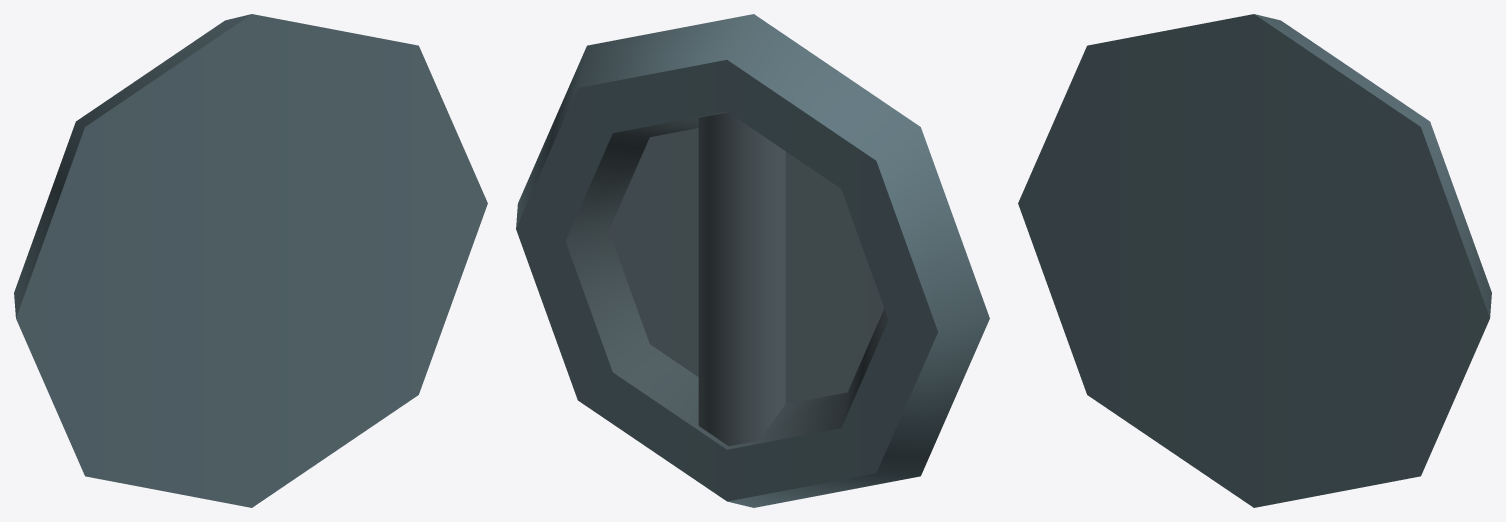
The model's file is Turret_011_Gun_Part_01.fbx.
3 renders of one model, left to right at view 1: azimuth 30°, elevation 25°; view 2: azimuth 150°, elevation 25°; view 3: azimuth 330°, elevation 25°, orthographic.
Visible parts, largest first — view 1: Turret_011_Gun_Part_01; view 2: Turret_011_Gun_Part_01; view 3: Turret_011_Gun_Part_01.
Boxes of the visible parts, bbox=[...] form: Turret_011_Gun_Part_01: bbox=[14, 14, 487, 507]; Turret_011_Gun_Part_01: bbox=[516, 14, 989, 507]; Turret_011_Gun_Part_01: bbox=[1018, 14, 1491, 507].
Size of the model in its own units: 19.74 by 1.95 by 19.74.
